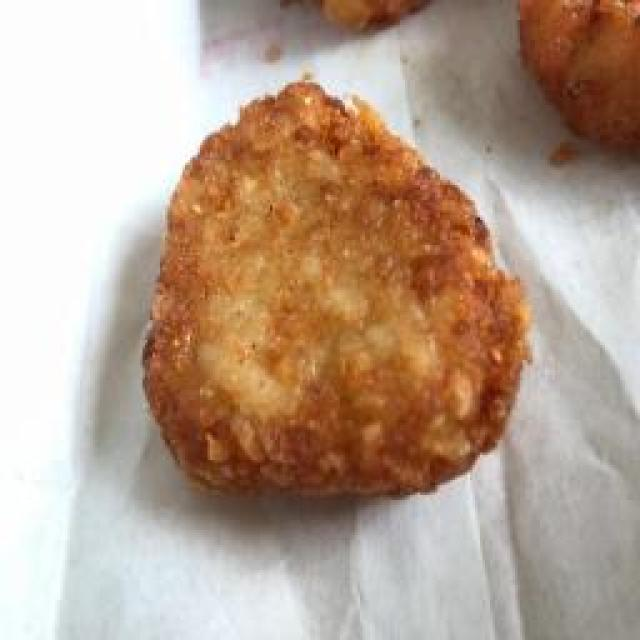Wet Waste: (135, 72, 537, 508)
